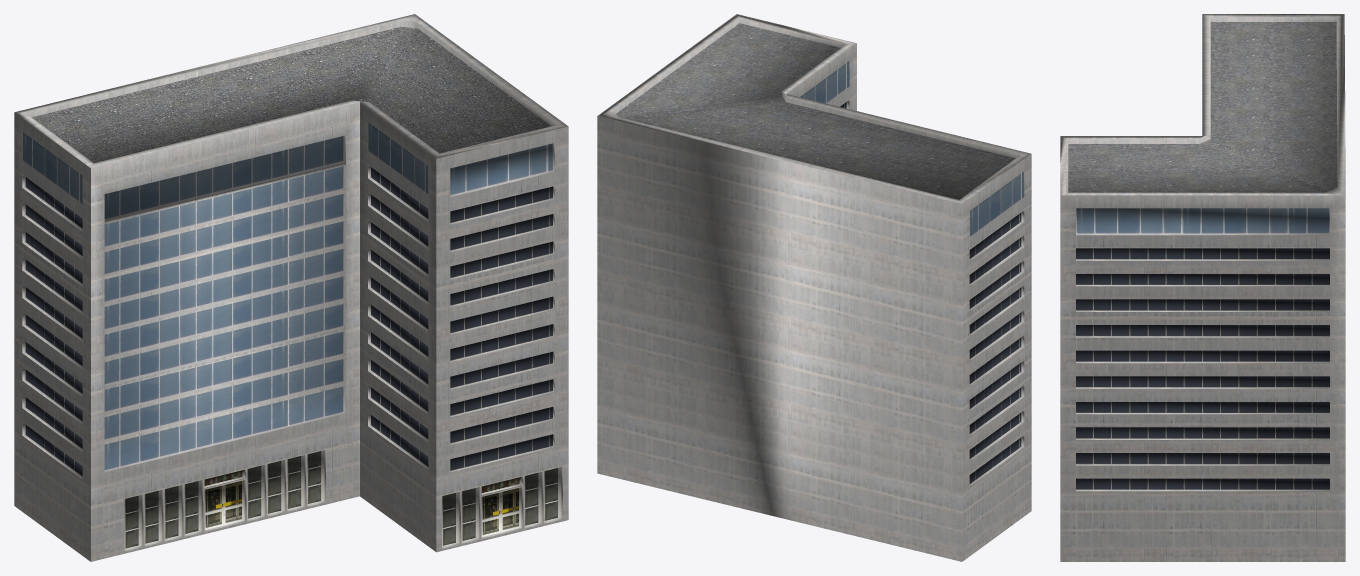
Rendered from Build10_fbx.fbx.
The picture shows the model from 3 angles, left to right: view 1: azimuth 30°, elevation 25°; view 2: azimuth 150°, elevation 25°; view 3: azimuth 270°, elevation 25°; orthographic projection. The views are drawn at different scales.
Visible parts, largest first — view 1: Building10; view 2: Building10; view 3: Building10.
Boxes of the visible parts, x1=… form: Building10: x1=14, y1=14, x2=568, y2=561; Building10: x1=597, y1=14, x2=1031, y2=561; Building10: x1=1060, y1=14, x2=1345, y2=561.
Size of the model in its own units: 368 by 345 by 244.
